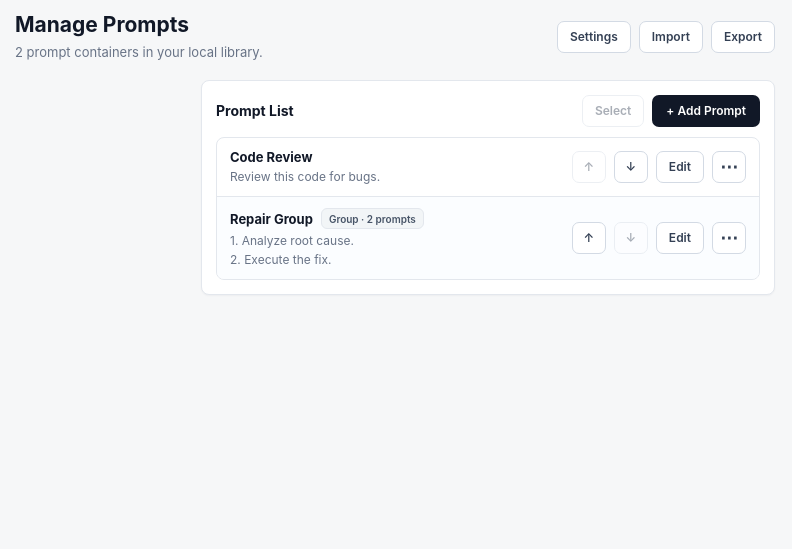
Test case: prompt manager › shows localized success feedback after creating a single prompt
Click the button "+ Add Prompt" at (706, 111), box [652,95,760,127]
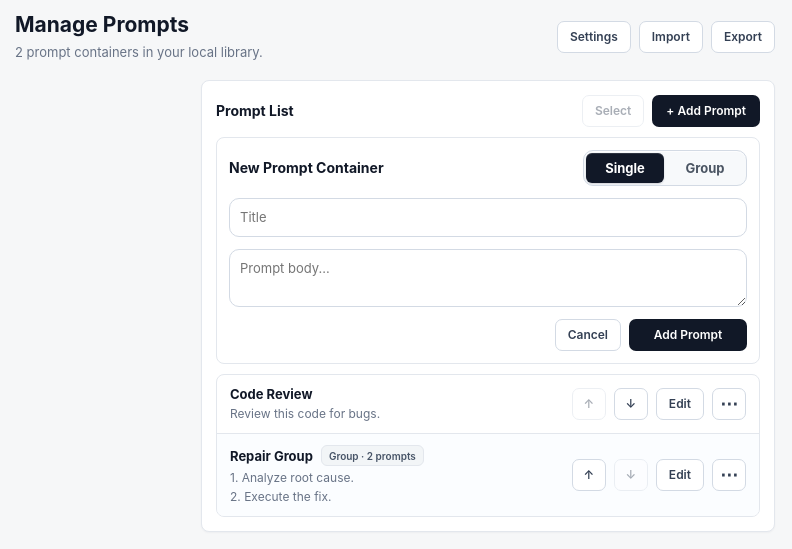
Type "New Single" into the field with placeholder "Title" at (488, 217), box [229,198,747,237]
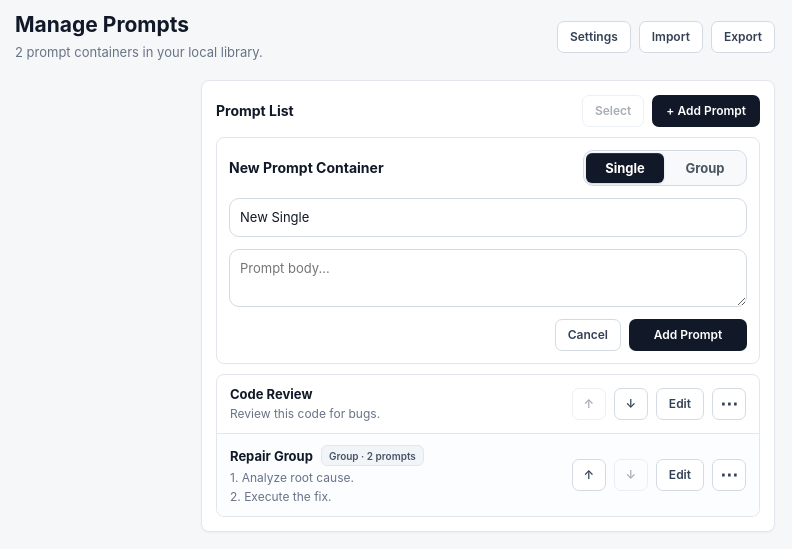
Type "Single body" into the text box with placeholder "Prompt body..." at (488, 278), box [229,249,747,307]
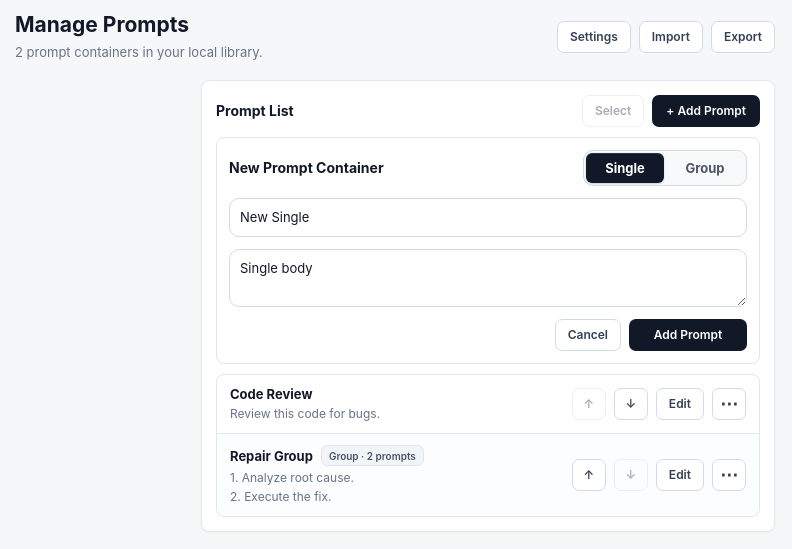
Click the button "Add Prompt" at (688, 335), box [629,319,747,351]
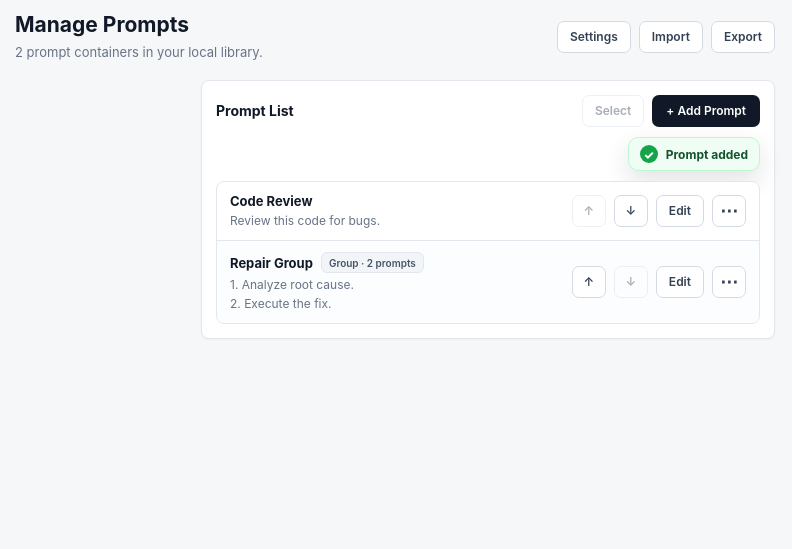
Check: the text "Prompt added" is shown, box [666,146,748,162]
